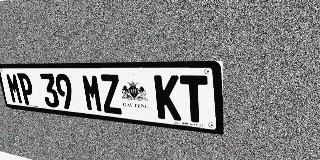3: (39, 73, 60, 108)
9: (54, 74, 75, 110)
K: (154, 75, 181, 121)
M: (81, 74, 104, 113), (5, 73, 24, 104)
P: (17, 73, 36, 105)
T: (180, 75, 209, 124)
Z: (99, 74, 123, 115)
